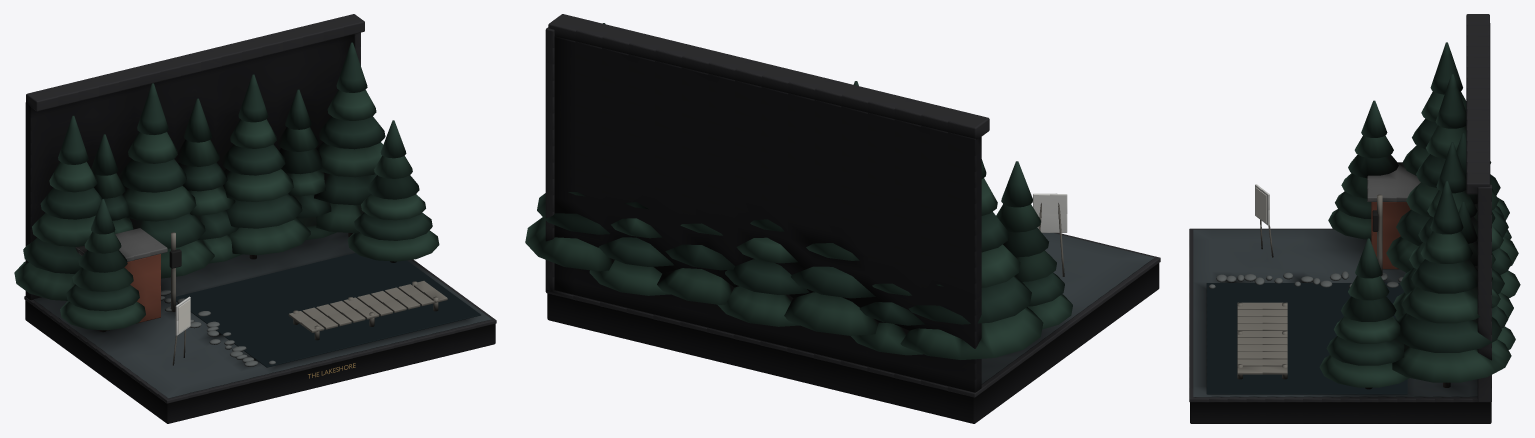
Rendered from shore.glb.
The picture shows the model from 3 angles, left to right: view 1: azimuth 30°, elevation 25°; view 2: azimuth 150°, elevation 25°; view 3: azimuth 270°, elevation 25°; orthographic projection. The views are drawn at different scales.
Visible parts, largest first — view 1: Display box • back wall, Lake, Floor, Display box • base, Cornice • back, Display box • charcoal lip, Fir tier.024, Fir tier.014, Fir tier.048, Fir tier.025, Fir tier.026, Fir tier.015 (+46 smaller); view 2: Display box • back wall, Display box • base, Cornice • back, Floor, Display box • charcoal lip, Fir tier, Fir tier.012, Fir tier.001, Right end post, Fir tier.036, Fir tier.018, Fir tier.024 (+19 smaller); view 3: Floor, Lake, Display box • base, Cornice • back, Fir tier.036, Display box • charcoal lip, Right end post, Fir tier.037, Fir tier.038, Fir tier.039, Fir tier.048, Fir tier.049 (+43 smaller).
Boxes of the visible parts, <box> form: Display box • back wall: <box>25,34,353,300</box>; Lake: <box>176,253,480,367</box>; Floor: <box>33,232,491,398</box>; Display box • base: <box>25,300,495,423</box>; Cornice • back: <box>26,14,364,111</box>; Display box • charcoal lip: <box>24,259,496,403</box>; Fir tier.024: <box>229,218,310,255</box>; Fir tier.014: <box>122,185,196,221</box>; Fir tier.048: <box>347,230,439,261</box>; Fir tier.025: <box>226,194,302,228</box>; Fir tier.026: <box>223,169,293,201</box>; Fir tier.015: <box>118,159,186,192</box>; Display box • back wall: <box>554,36,981,392</box>; Display box • base: <box>547,263,1159,423</box>; Cornice • back: <box>548,14,989,139</box>; Floor: <box>981,233,1154,384</box>; Display box • charcoal lip: <box>546,233,1160,397</box>; Fir tier: <box>900,307,1043,359</box>; Fir tier.012: <box>784,292,878,335</box>; Fir tier.001: <box>908,276,1031,324</box>; Right end post: <box>545,27,554,291</box>; Fir tier.036: <box>525,217,614,271</box>; Fir tier.018: <box>717,286,799,326</box>; Fir tier.024: <box>657,268,734,304</box>; Floor: <box>1193,229,1477,397</box>; Lake: <box>1206,283,1407,394</box>; Display box • base: <box>1190,402,1491,423</box>; Cornice • back: <box>1466,14,1489,194</box>; Fir tier.036: <box>1392,339,1511,382</box>; Display box • charcoal lip: <box>1189,228,1477,402</box>; Right end post: <box>1477,184,1491,402</box>; Fir tier.037: <box>1396,313,1501,352</box>; Fir tier.038: <box>1401,286,1492,323</box>; Fir tier.039: <box>1411,259,1477,293</box>; Fir tier.048: <box>1319,355,1409,387</box>; Fir tier.049: <box>1326,336,1404,365</box>.
Bounding box in the file's own units: 8.33 × 4.76 × 5.93.
